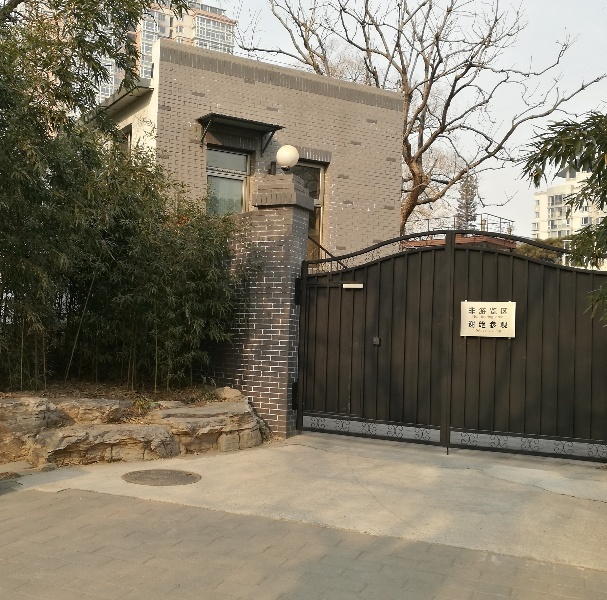text: (481, 307, 496, 315), (481, 321, 496, 329), (468, 321, 480, 329), (469, 307, 480, 315), (497, 307, 508, 315), (497, 321, 508, 329), (481, 315, 493, 319), (473, 315, 480, 319), (481, 329, 487, 333), (489, 330, 496, 333), (475, 329, 480, 333), (497, 317, 504, 319), (497, 330, 501, 333)
